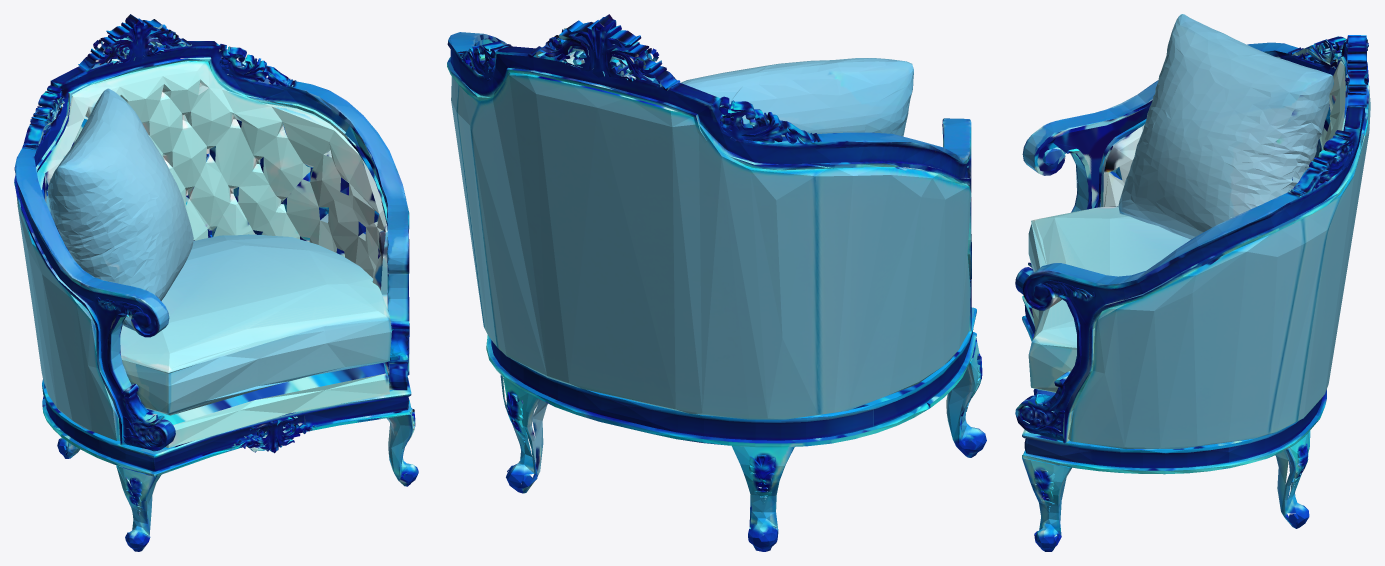
File: edited_mesh.glb
3 renders of one model, left to right at view 1: azimuth 30°, elevation 25°; view 2: azimuth 150°, elevation 25°; view 3: azimuth 270°, elevation 25°, orthographic. The views are drawn at different scales.
Visible parts, largest first — view 1: solid_001_wire; view 2: solid_001_wire; view 3: solid_001_wire.
Boxes of the visible parts, <box> form: solid_001_wire: <box>14,14,418,551</box>; solid_001_wire: <box>447,14,986,551</box>; solid_001_wire: <box>1015,14,1370,551</box>.
Bounding box in the file's own units: 1.26 × 1.37 × 0.9974.
Materials: 1 (1 with a texture image).
